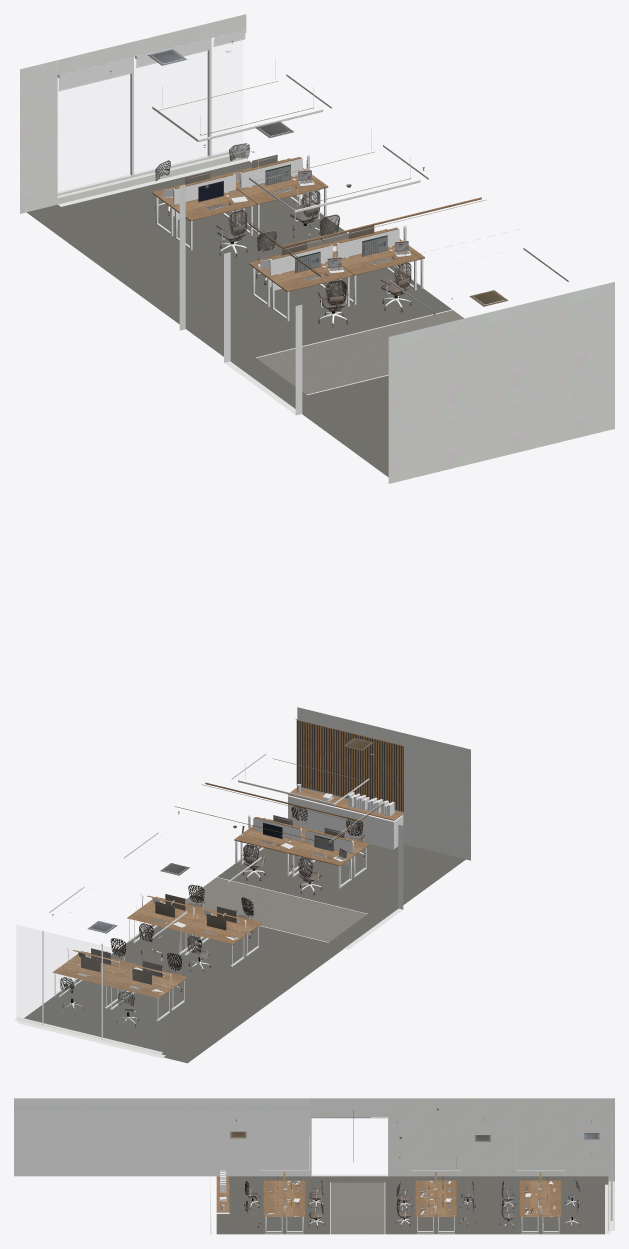
The model's file is z-open_w-lite.light.ba6e9473.glb.
3 views of the same model, one above another, from view 1: azimuth 30°, elevation 25°; view 2: azimuth 150°, elevation 25°; view 3: azimuth 270°, elevation 25° (orthographic). The views are drawn at different scales.
Visible parts, largest first — view 1: open_w_plaster, open_w_carpet, open_w_satin, open_w_fx, open_w_oak, open_w_emit, open_w_metal_lit; view 2: open_w_carpet, open_w_plaster, open_w_satin, open_w_oak, open_w_fx, open_w_proxy_slat, open_w_metal_lit, open_w_emit; view 3: open_w_satin, open_w_plaster, open_w_carpet, open_w_oak, open_w_fx, open_w_metal_lit.
Boxes of the visible parts, x1=… form: open_w_plaster: x1=20, y1=14, x2=614, y2=483; open_w_carpet: x1=27, y1=161, x2=463, y2=477; open_w_satin: x1=57, y1=29, x2=568, y2=415; open_w_fx: x1=109, y1=41, x2=508, y2=327; open_w_oak: x1=152, y1=155, x2=481, y2=291; open_w_emit: x1=158, y1=81, x2=486, y2=272; open_w_metal_lit: x1=61, y1=51, x2=411, y2=414; open_w_carpet: x1=24, y1=844, x2=465, y2=1063; open_w_plaster: x1=14, y1=707, x2=470, y2=1055; open_w_satin: x1=16, y1=753, x2=403, y2=1058; open_w_oak: x1=52, y1=782, x2=403, y2=998; open_w_fx: x1=52, y1=738, x2=403, y2=1027; open_w_proxy_slat: x1=296, y1=720, x2=403, y2=811; open_w_metal_lit: x1=58, y1=826, x2=403, y2=1055; open_w_emit: x1=152, y1=719, x2=402, y2=937; open_w_satin: x1=14, y1=1098, x2=612, y2=1234; open_w_plaster: x1=14, y1=1098, x2=614, y2=1234; open_w_carpet: x1=216, y1=1176, x2=608, y2=1234; open_w_oak: x1=216, y1=1110, x2=561, y2=1216; open_w_fx: x1=230, y1=1108, x2=599, y2=1228; open_w_metal_lit: x1=250, y1=1174, x2=605, y2=1233.
Size of the model in its own units: 5.4 by 3.36 by 23.
10 materials, 6 textured.
